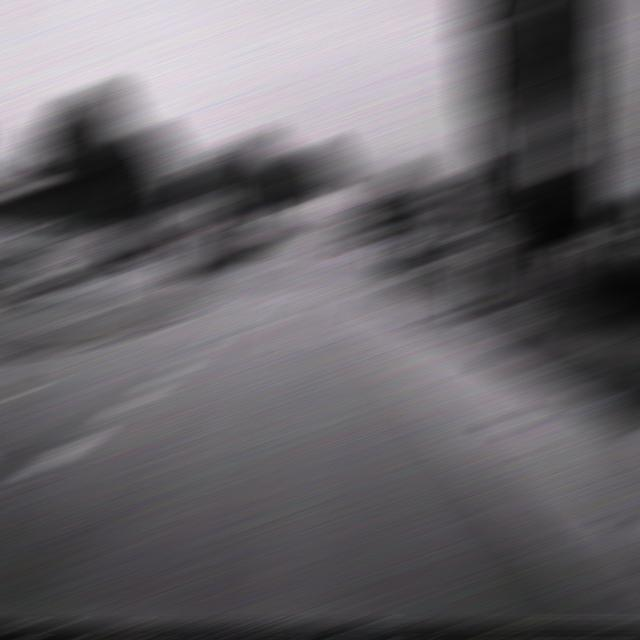stop: (374, 220, 404, 234), (167, 220, 197, 234)
